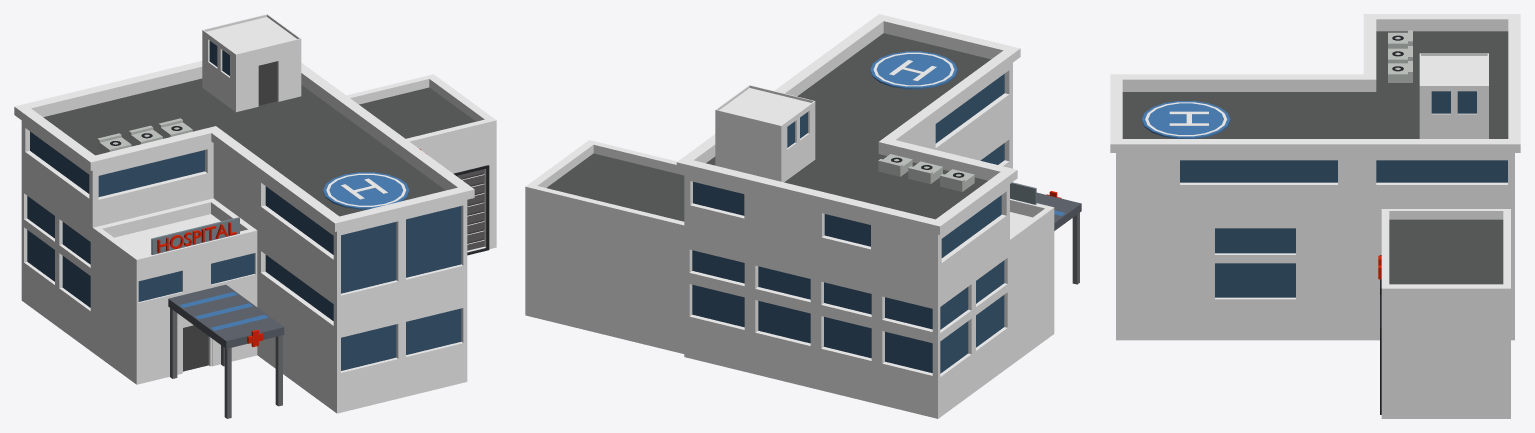
Rendered from Main Hospital_1.fbx.
3 renders of one model, left to right at view 1: azimuth 30°, elevation 25°; view 2: azimuth 150°, elevation 25°; view 3: azimuth 270°, elevation 25°, orthographic. The views are drawn at different scales.
Visible parts, largest first — view 1: Main Hospital_1; view 2: Main Hospital_1; view 3: Main Hospital_1.
Boxes of the visible parts, box(x1,y1,x2,y2) form: Main Hospital_1: box(14, 14, 496, 418); Main Hospital_1: box(525, 14, 1081, 418); Main Hospital_1: box(1110, 14, 1520, 418).
Bounding box in the file's own units: 3375 × 1861 × 2822.
